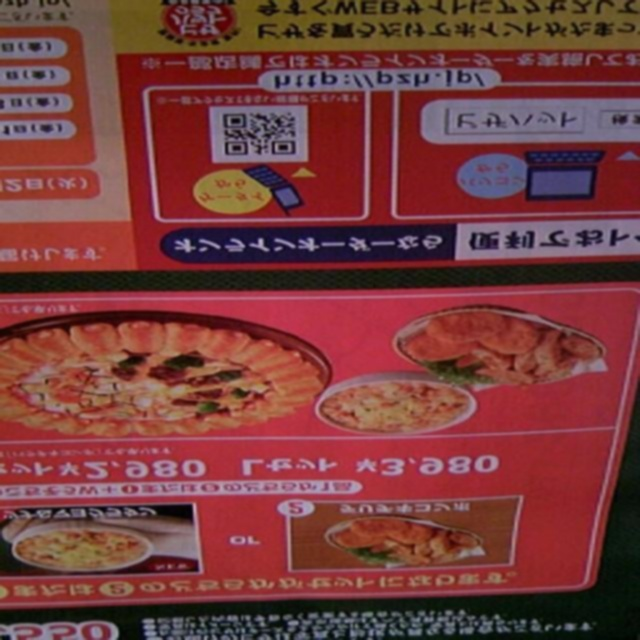qr-code: (224, 114, 294, 155)
